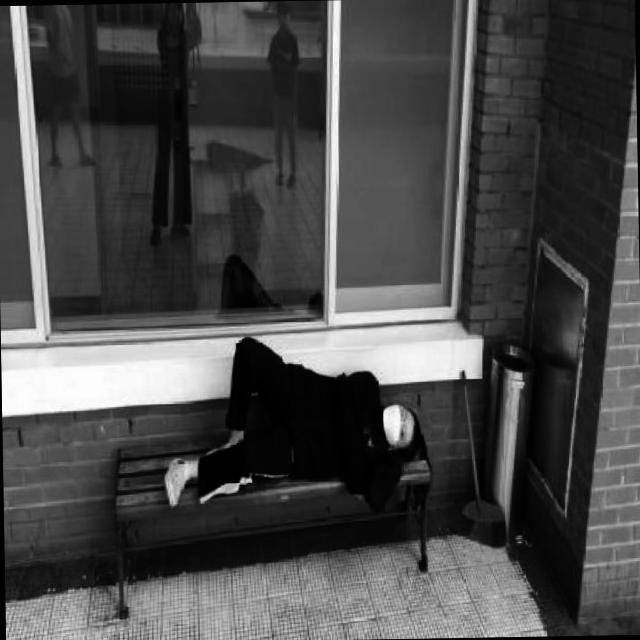person: (159, 330, 422, 509)
